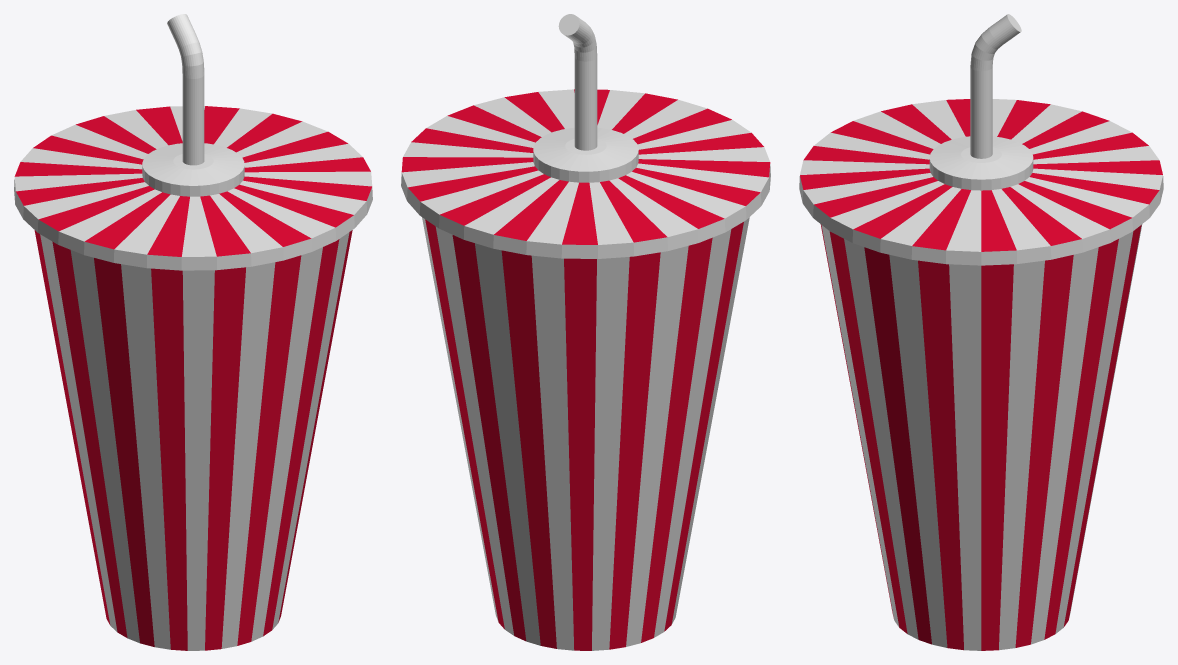
The model's file is BebidaBlenderUnity.fbx.
3 renders of one model, left to right at view 1: azimuth 30°, elevation 25°; view 2: azimuth 150°, elevation 25°; view 3: azimuth 270°, elevation 25°, orthographic. The views are drawn at different scales.
Parts seen in each view (by area): view 1: Cylinder; view 2: Cylinder; view 3: Cylinder.
Boxes of the visible parts, x1,y1,x2,y2 form: Cylinder: (14,14,372,650); Cylinder: (401,14,770,650); Cylinder: (799,14,1163,650).
Bounding box in the file's own units: 187 × 339 × 187.
